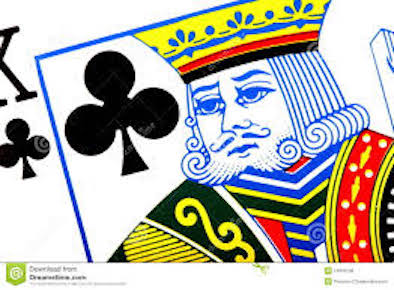KingOfClubs: (1, 1, 394, 265)
